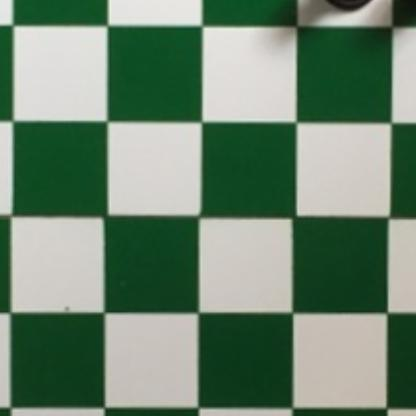black-pawn: (313, 0, 384, 14), (404, 0, 416, 18)
